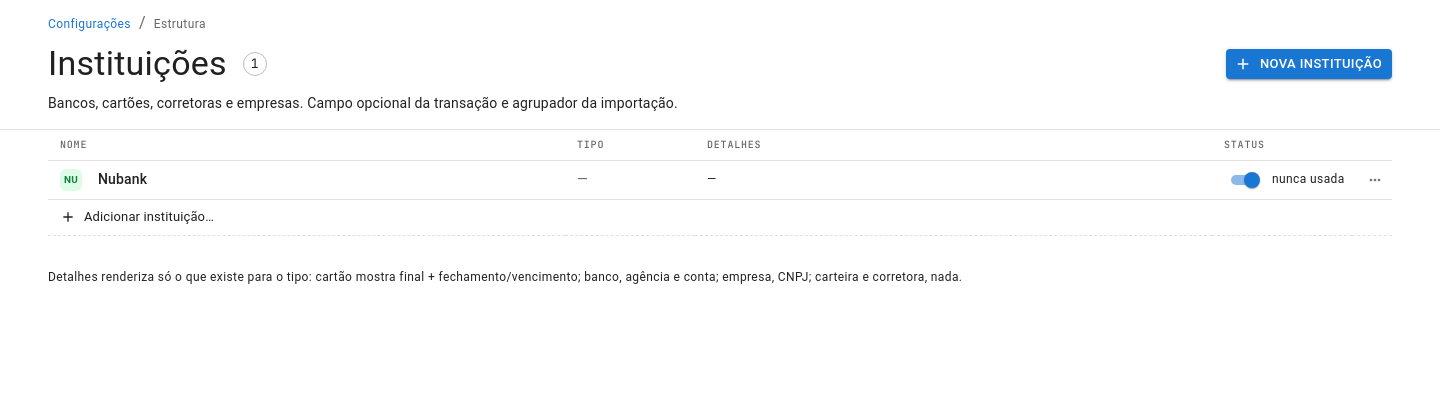
InstitutionsManager (Spec 68 §9 P8) › expõe verUso e mesclar no menu da linha, mas não duplicar
The width and height of the screenshot is (1440, 408).
Click the button named "Ações desta linha: Nubank": click(1375, 180) [1362,166,1388,192]
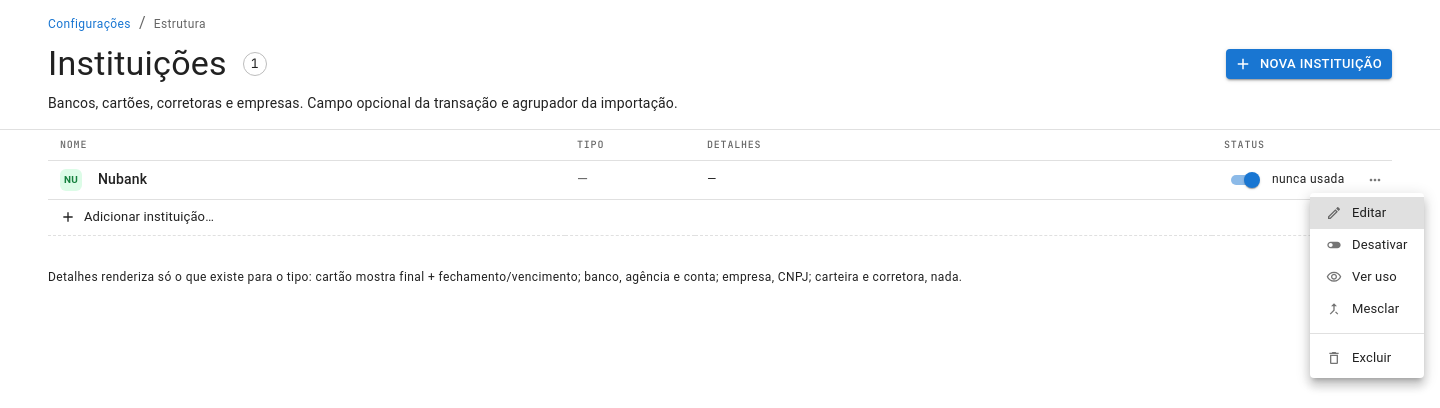
Check: the menu item "Ver uso" is shown, box [1326,269,1397,285]
Check: the menu item "Mesclar" is shown, box [1326,301,1399,317]
